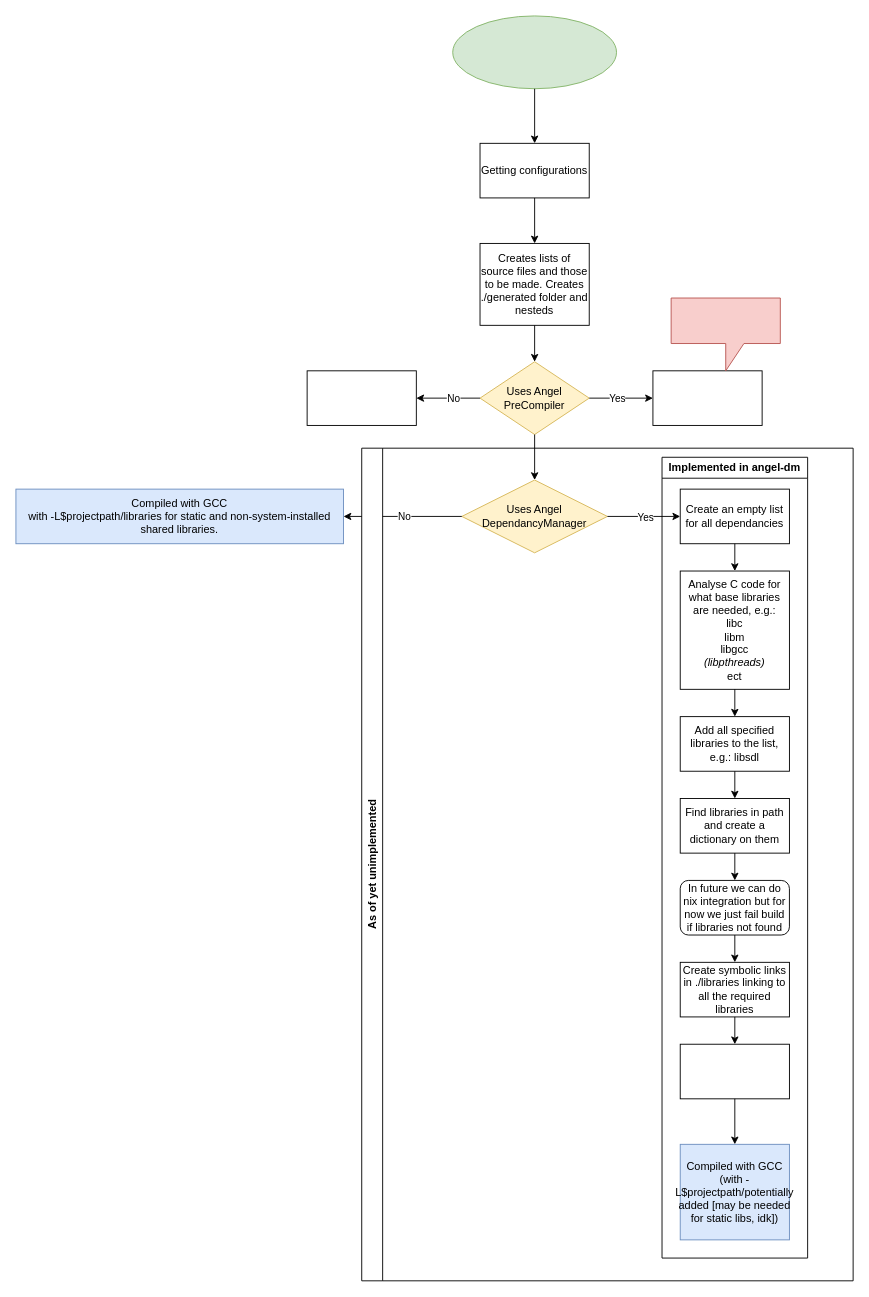
Some shapes in this 869 by 1297 pixel diagram are drawn without their labels. The shapes that lost their labels are listed below. From the top down, each one's centre as x and y in pixels, then its label:
At (534,52): "Angel BuilDer started with valid command line args".
At (725,334): "If angel-pc is not present we fail build".
At (361,397): "Copies sources and place in directory structure".
At (707,397): "Precompile sources and place in directory structure".
At (734,1071): "Set library path to ./libraries exclusively".
